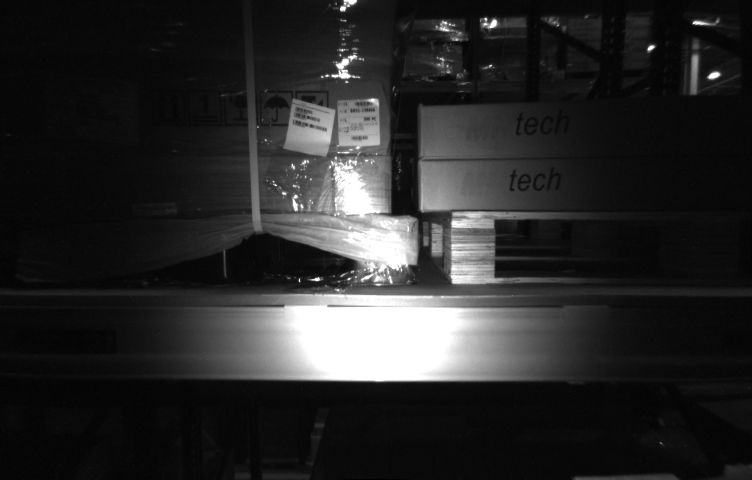True Barcode: (338, 100, 380, 147)
